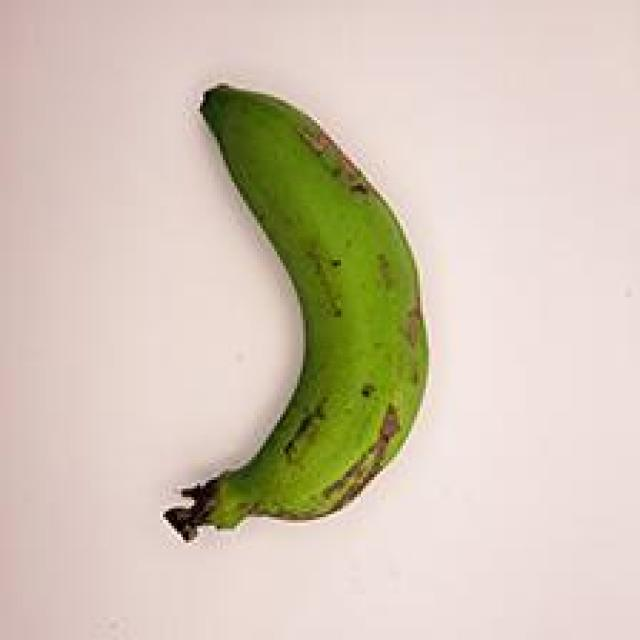Raw: (122, 62, 460, 570)
